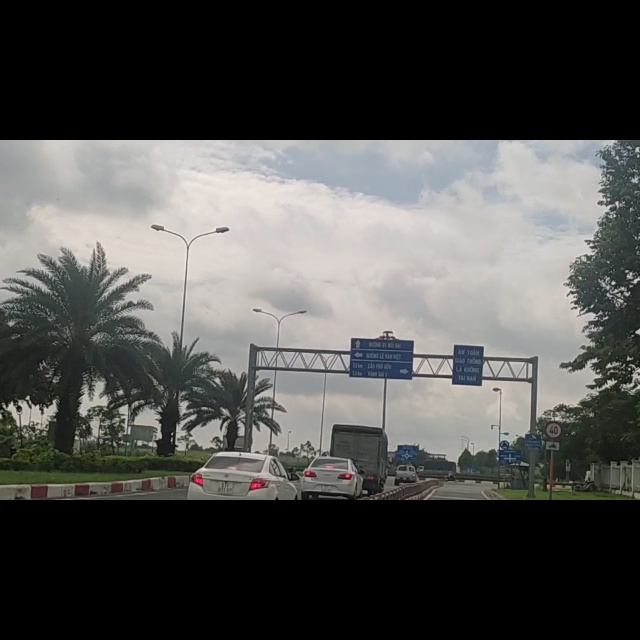bien_chi_dan: (544, 498, 563, 532), (544, 532, 561, 553)
